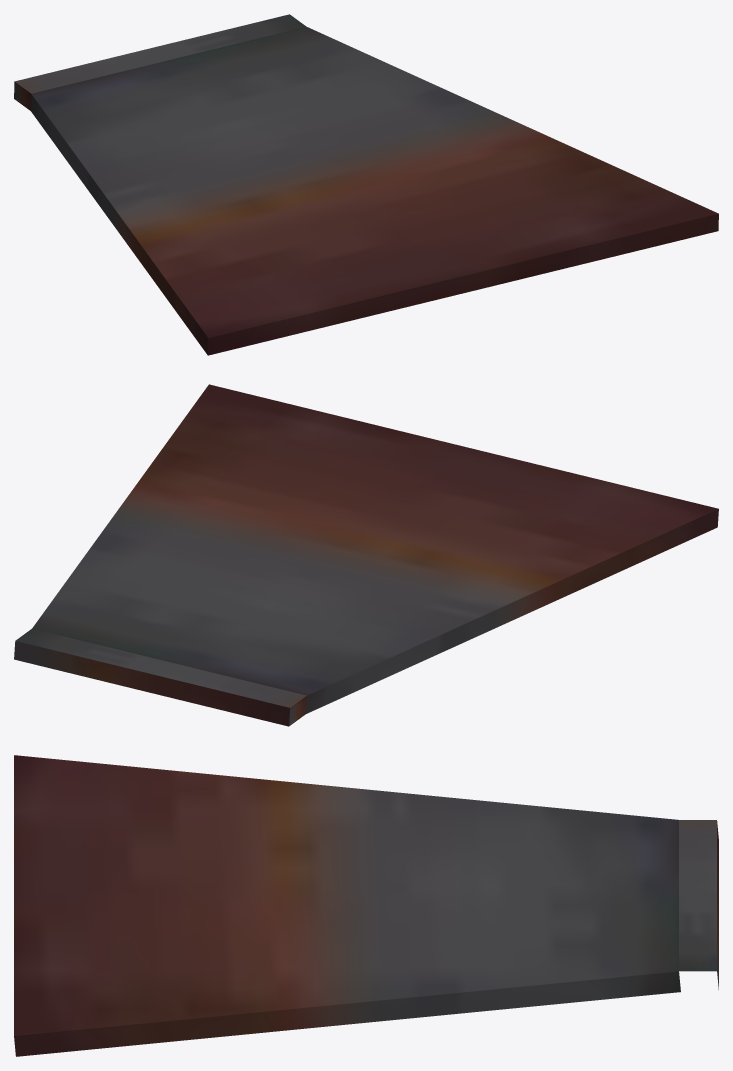
Rendered from NIEUFORMOWANE_ZELAZO.glb.
3 renders of one model, top to bottom at view 1: azimuth 30°, elevation 25°; view 2: azimuth 150°, elevation 25°; view 3: azimuth 270°, elevation 25°, orthographic. The views are drawn at different scales.
Parts seen in each view (by area): view 1: NIEUFORMOWANE_ZELAZO; view 2: NIEUFORMOWANE_ZELAZO; view 3: NIEUFORMOWANE_ZELAZO.
Part boxes in pixels (<box>): NIEUFORMOWANE_ZELAZO: <box>14,14,718,355</box>; NIEUFORMOWANE_ZELAZO: <box>14,384,718,726</box>; NIEUFORMOWANE_ZELAZO: <box>14,755,718,1056</box>.
Size of the model in its own units: 0.2454 by 0.00833 by 0.26.
Materials: 1 (1 with a texture image).
